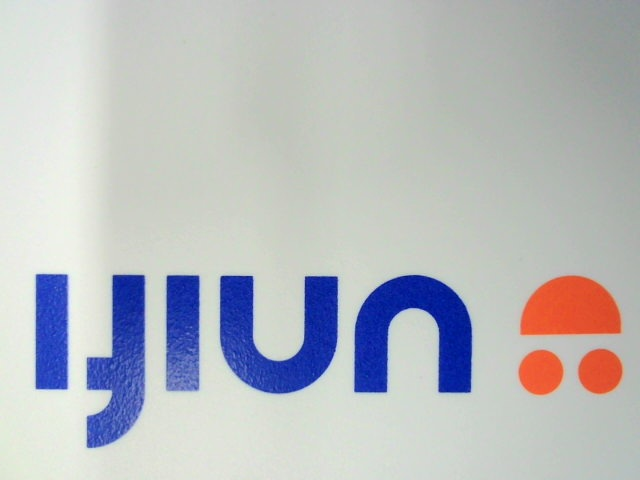BN_unifi: (13, 254, 629, 450)
